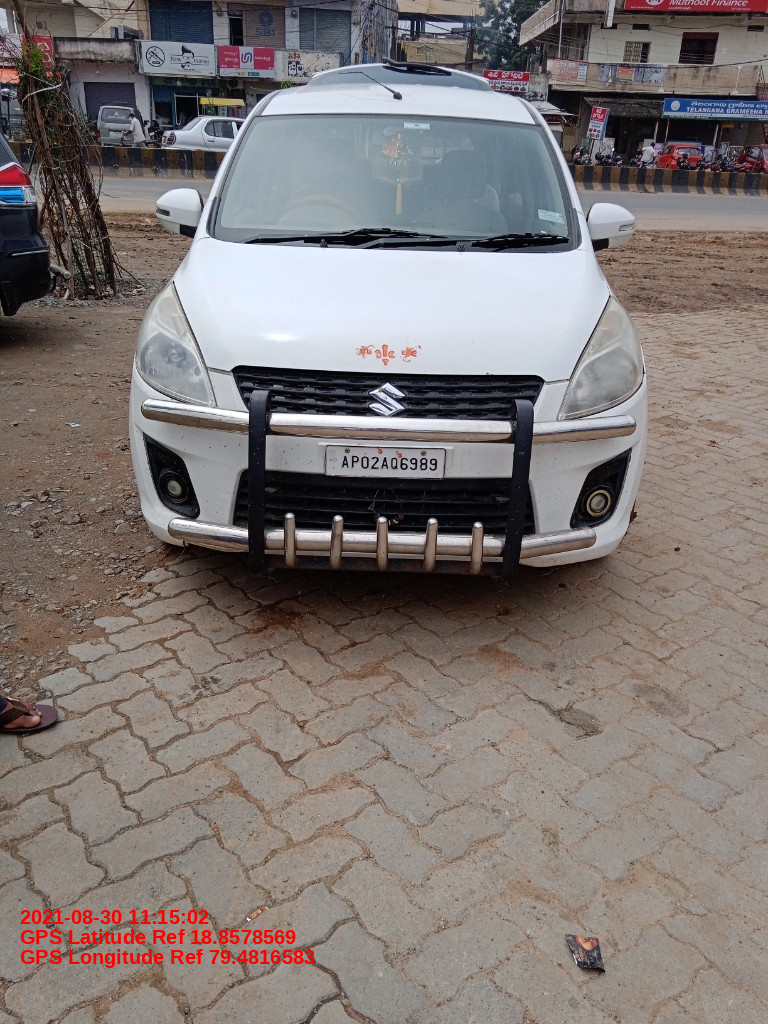Scratched: (222, 439, 231, 453), (205, 442, 215, 453), (237, 440, 244, 449)
